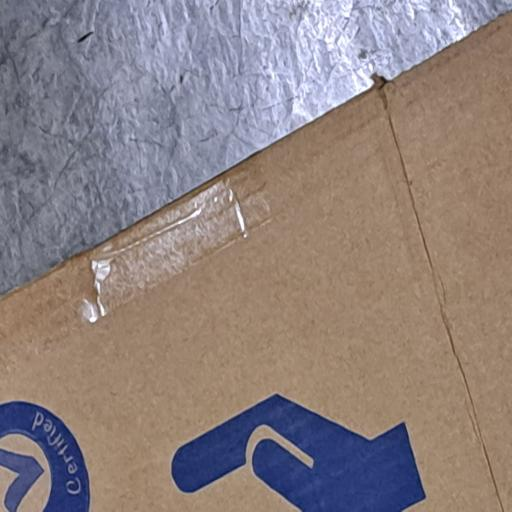cardboard: (0, 0, 375, 512)
